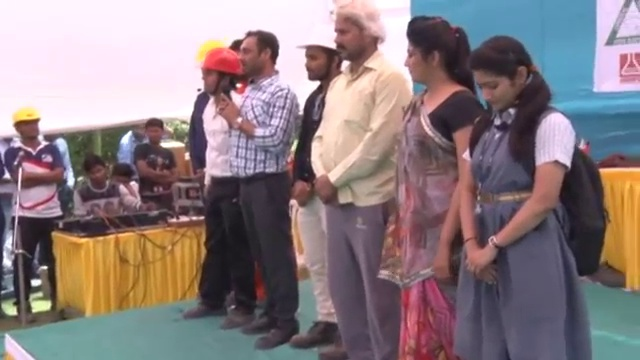helmet: (193, 47, 244, 81), (295, 24, 343, 50), (9, 107, 41, 128)
helmet_off: (470, 31, 543, 116), (398, 17, 467, 89), (327, 5, 386, 61), (232, 30, 281, 82), (80, 157, 108, 187), (111, 164, 135, 188), (144, 120, 165, 146), (130, 120, 150, 147)
helmet_on: (295, 25, 343, 85), (192, 45, 243, 100), (10, 107, 41, 144)
person: (457, 30, 610, 359), (310, 1, 415, 360), (395, 14, 488, 357), (213, 32, 306, 347), (181, 47, 256, 334), (289, 19, 347, 360), (0, 108, 70, 323), (73, 157, 156, 219), (133, 118, 175, 200), (116, 122, 149, 179)
